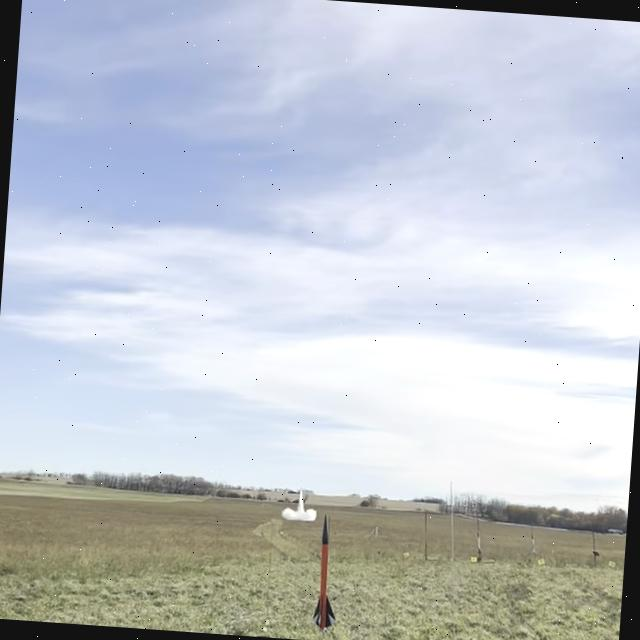smoke_trail_with_rocket: (280, 488, 315, 523)
